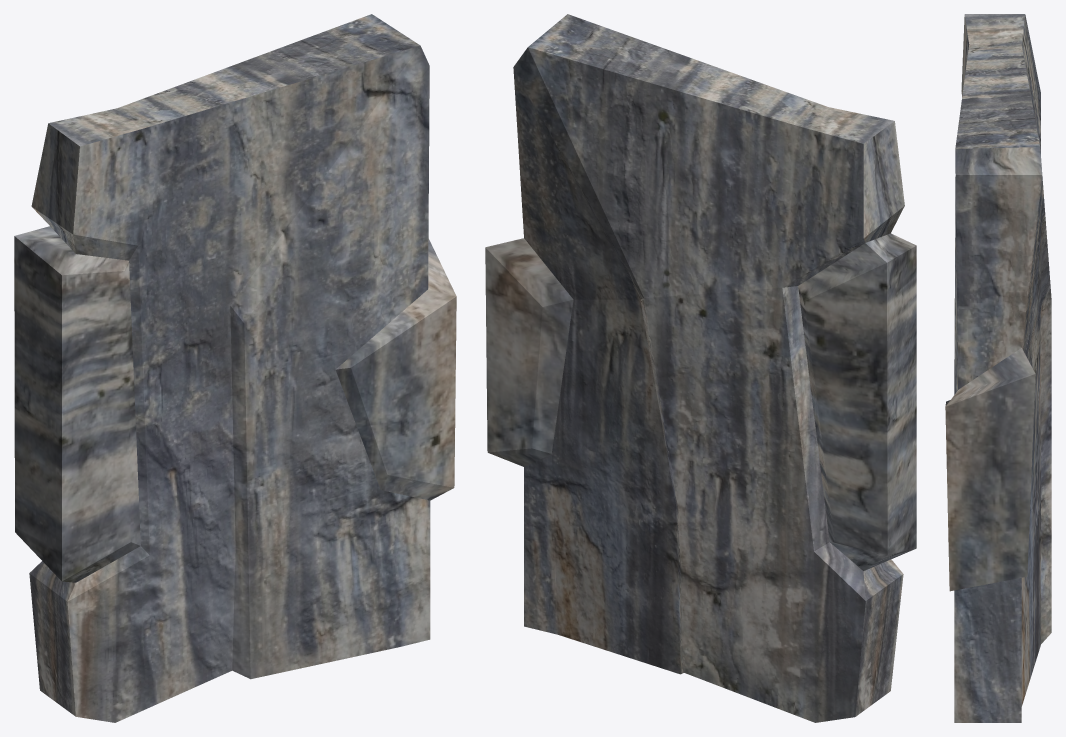
File: RockWall_6.fbx
The picture shows the model from 3 angles, left to right: view 1: azimuth 30°, elevation 25°; view 2: azimuth 150°, elevation 25°; view 3: azimuth 270°, elevation 25°; orthographic projection. The views are drawn at different scales.
Visible parts, largest first — view 1: pCube7; view 2: pCube7; view 3: pCube7.
Boxes of the visible parts, x1,y1,x2,y2 form: pCube7: (14,14,456,722); pCube7: (485,14,916,722); pCube7: (945,14,1051,722).
Bounding box in the file's own units: 10.05 × 14.4 × 2.37.
